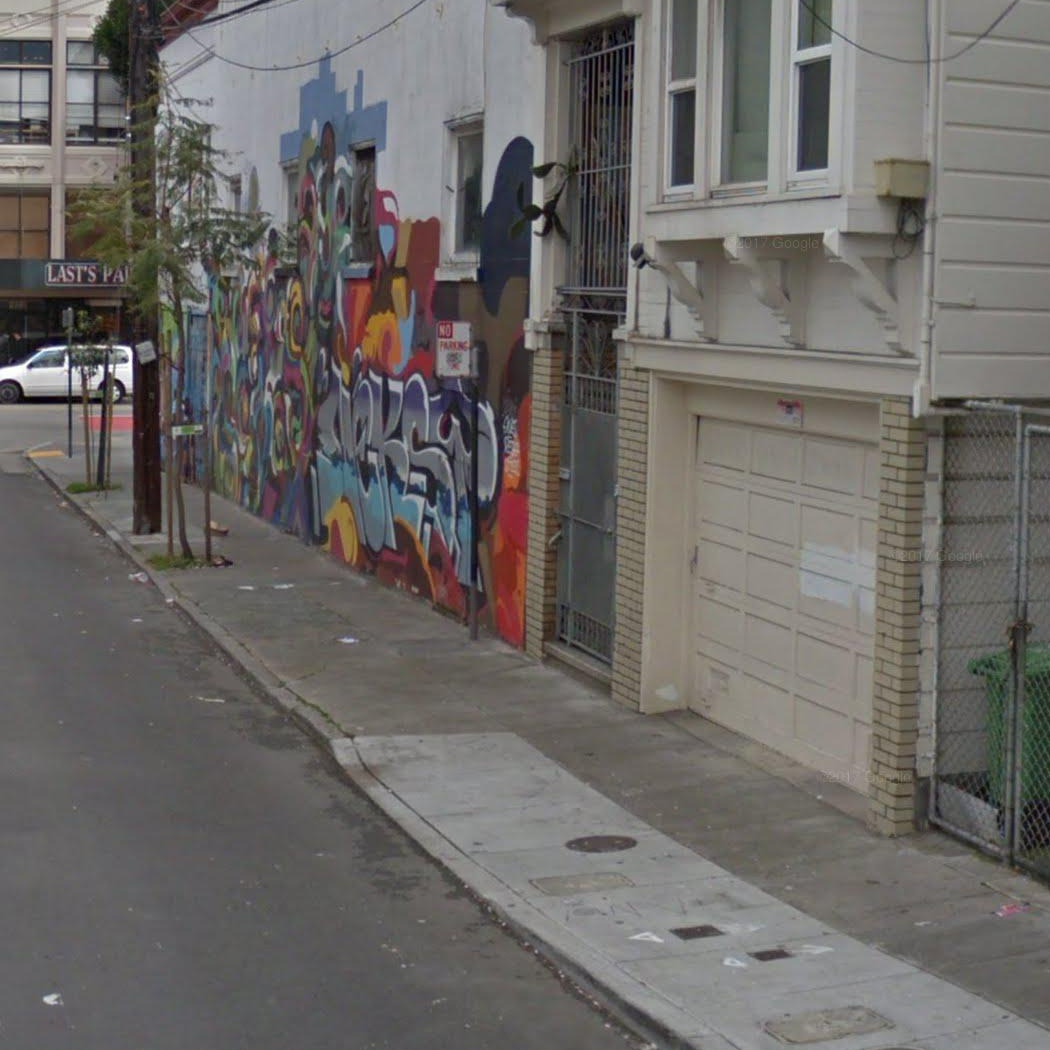No Parking Anytime: (434, 319, 472, 378)
